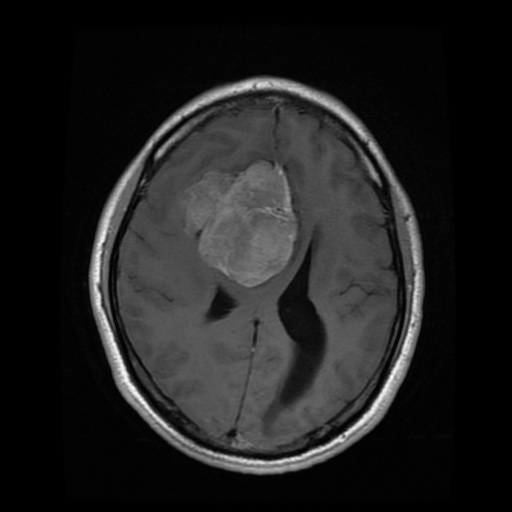meningioma: (185, 160, 296, 287)
